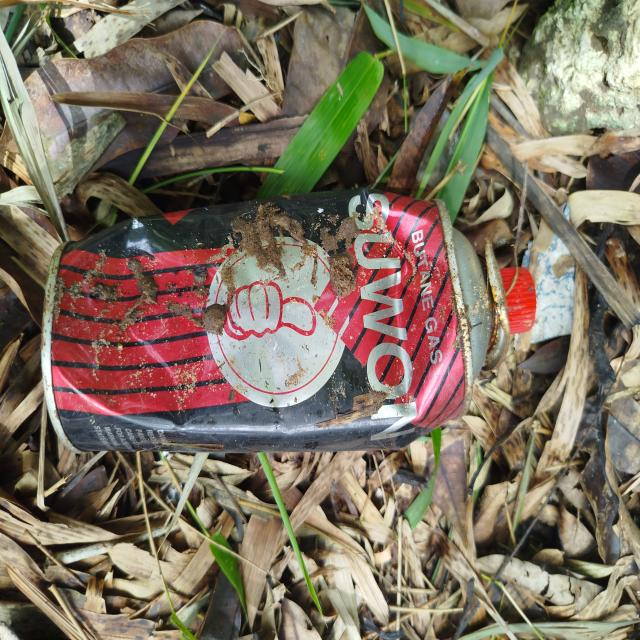metal: (32, 176, 549, 474)
